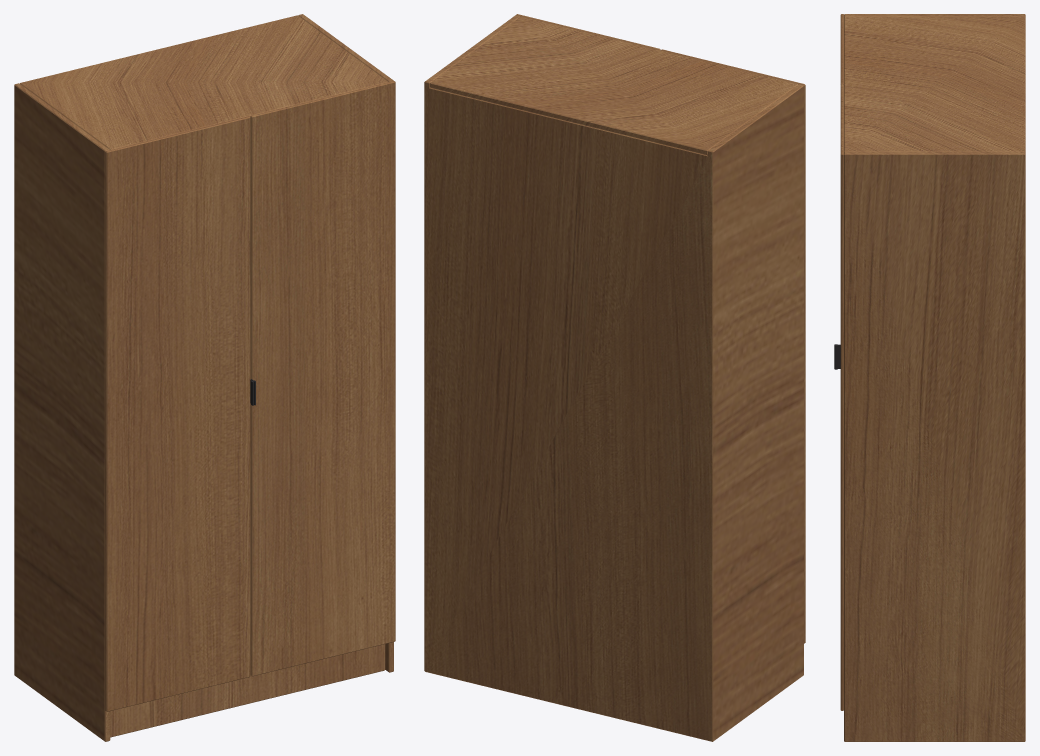
The model's file is Closet_dark.gltf.
The picture shows the model from 3 angles, left to right: view 1: azimuth 30°, elevation 25°; view 2: azimuth 150°, elevation 25°; view 3: azimuth 270°, elevation 25°; orthographic projection.
Parts seen in each view (by area): view 1: Closet; view 2: Closet; view 3: Closet.
Boxes of the visible parts, bbox=[...] form: Closet: bbox=[14, 14, 395, 741]; Closet: bbox=[424, 14, 805, 741]; Closet: bbox=[840, 14, 1025, 741].
Size of the model in its own units: 0.9897 by 1.97 by 0.5689.
Materials: 2 (1 with a texture image).
